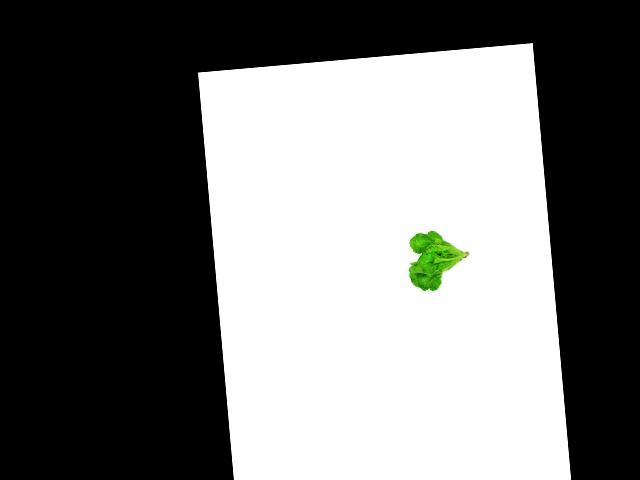lettuce: (401, 225, 473, 296)
